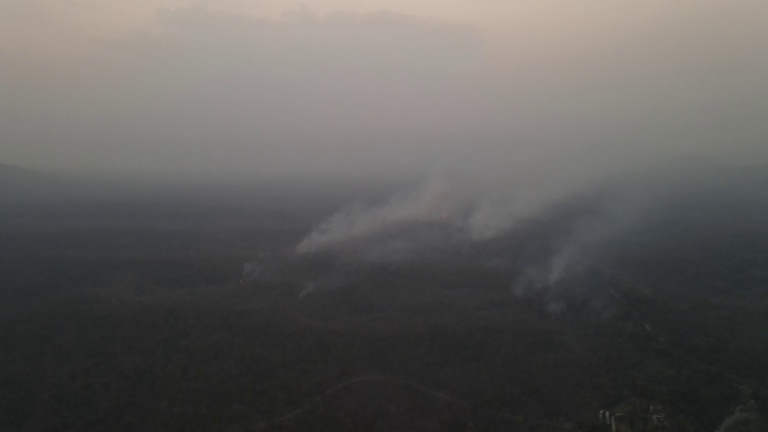smoke: (286, 130, 617, 305)
